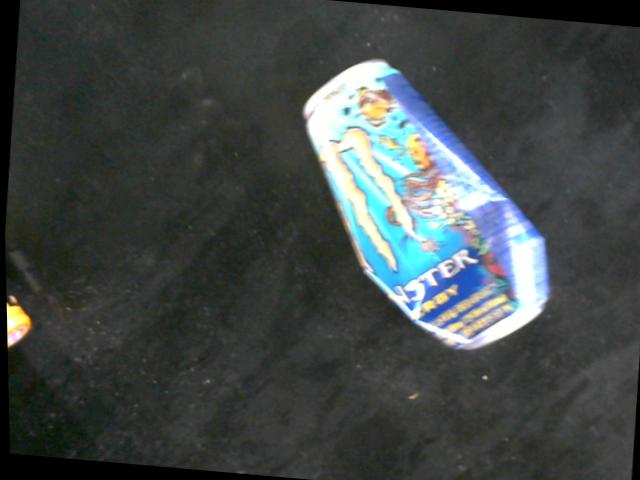can: (296, 44, 557, 368)
